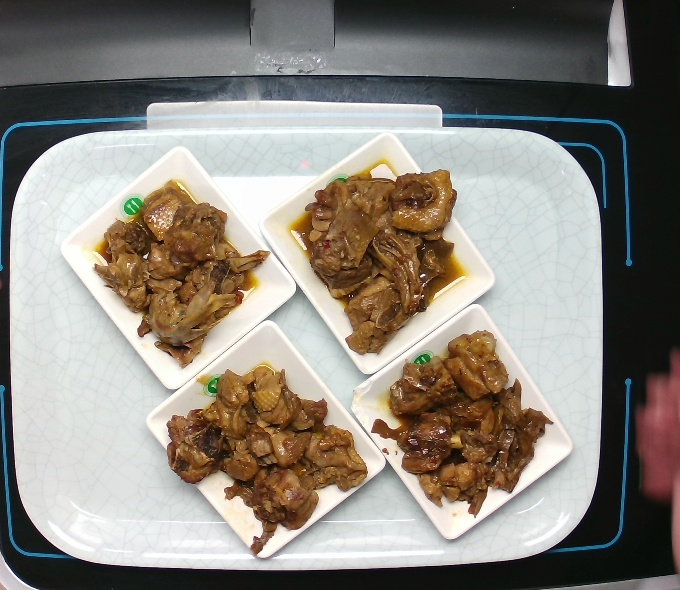wcq-HongShaoJi: (158, 352, 371, 547), (371, 321, 558, 524), (293, 153, 465, 363), (94, 175, 269, 368)
